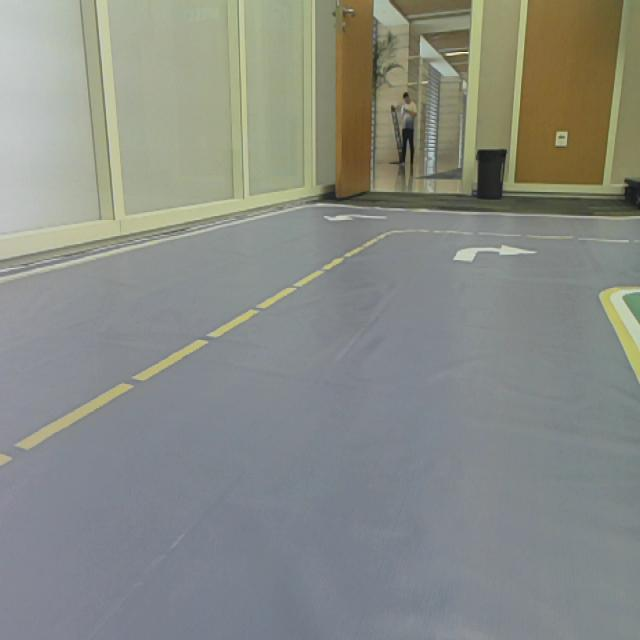left_lane: (0, 230, 389, 467)
right_lane: (600, 297, 640, 384)
